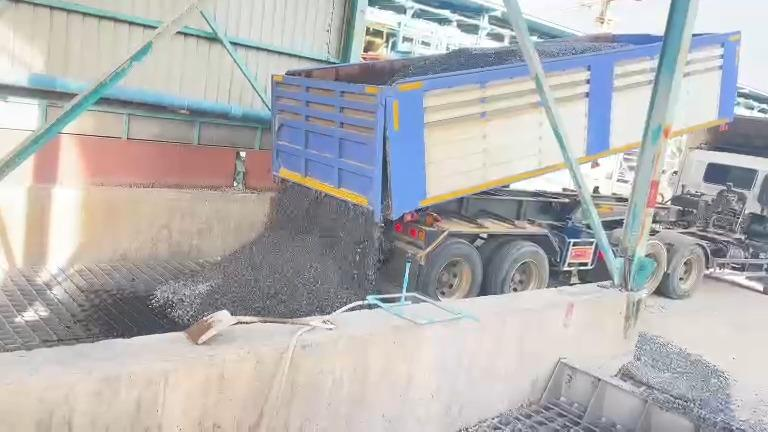gravel: (153, 184, 382, 323), (619, 333, 767, 430), (377, 44, 523, 84), (536, 40, 629, 58)
